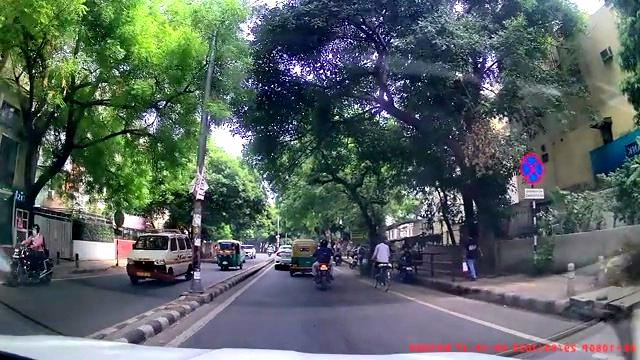motorcycle_with_helmet: (9, 223, 55, 286), (312, 238, 335, 291)
